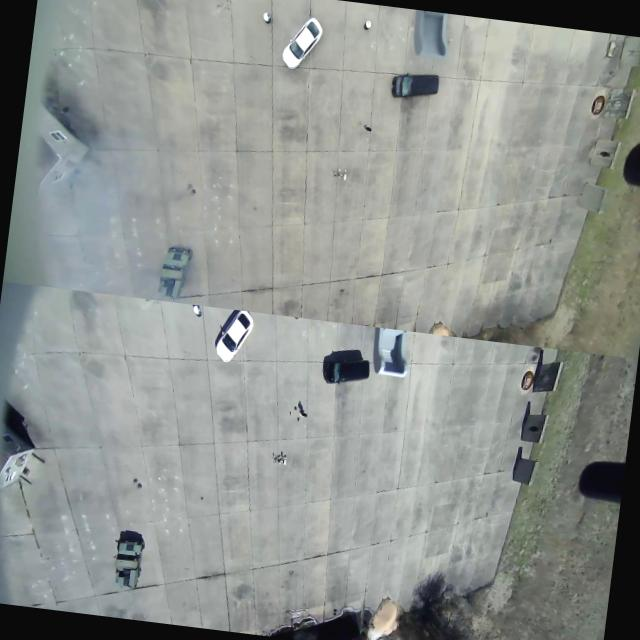car: (280, 14, 323, 70), (319, 350, 374, 392), (388, 66, 439, 108), (213, 306, 253, 359)
truck: (103, 528, 154, 598), (152, 242, 195, 304)
